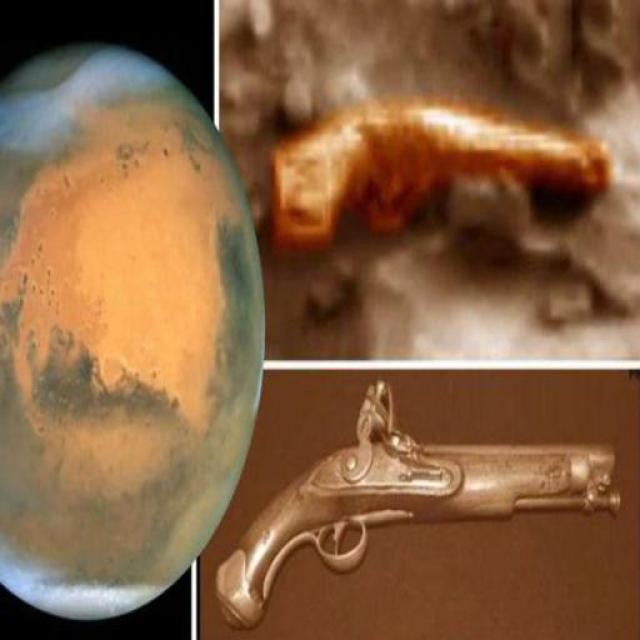pistol: (217, 384, 621, 620)
